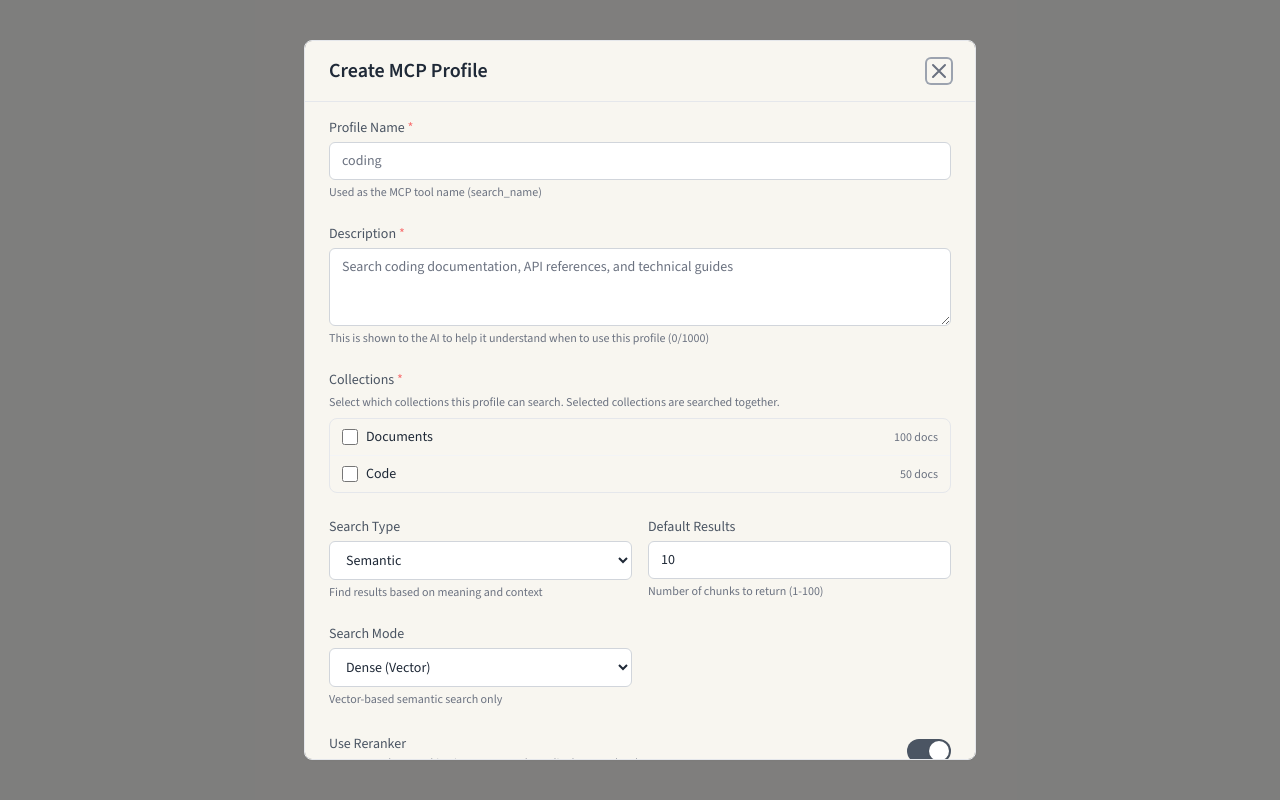
Test: ProfileFormModal › Form Validation › should show error for invalid name format
Step 1. Type "Invalid Name!" into the field labelled "Profile Name *" → (640, 161), box [329,142,951,180]
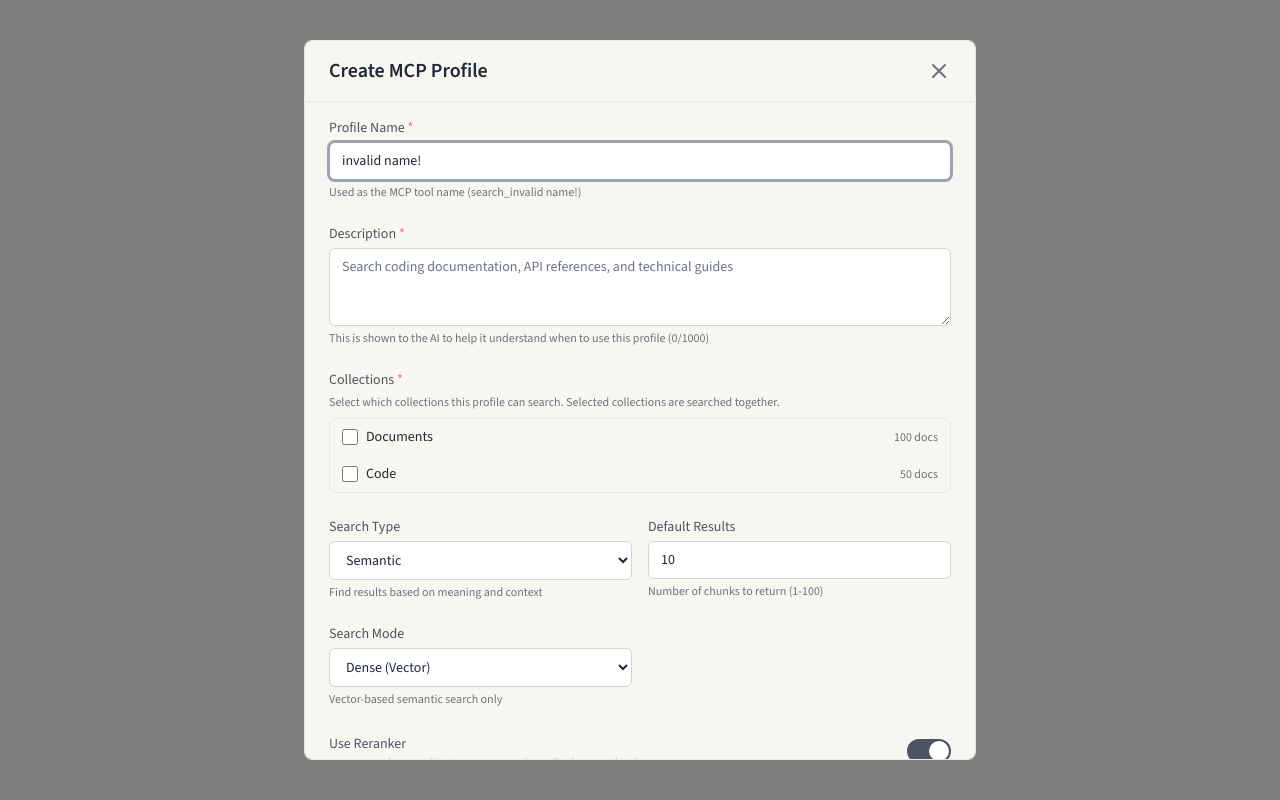
Step 2. Type "Test description" into the text box labelled "Description *" → (640, 287), box [329,248,951,326]
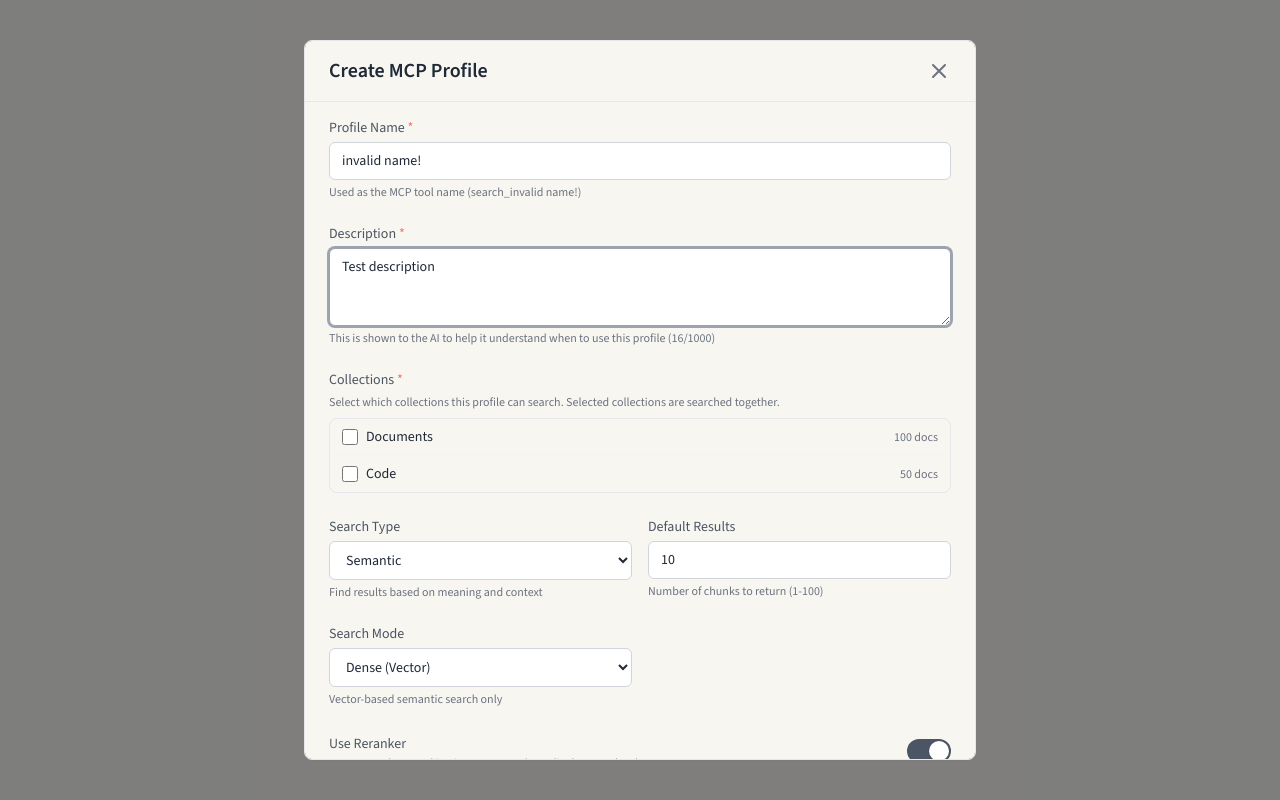
Step 3. Click the checkbox labelled "Documents 100 docs" → (350, 437), box [342,429,358,445]
(page scrolled)
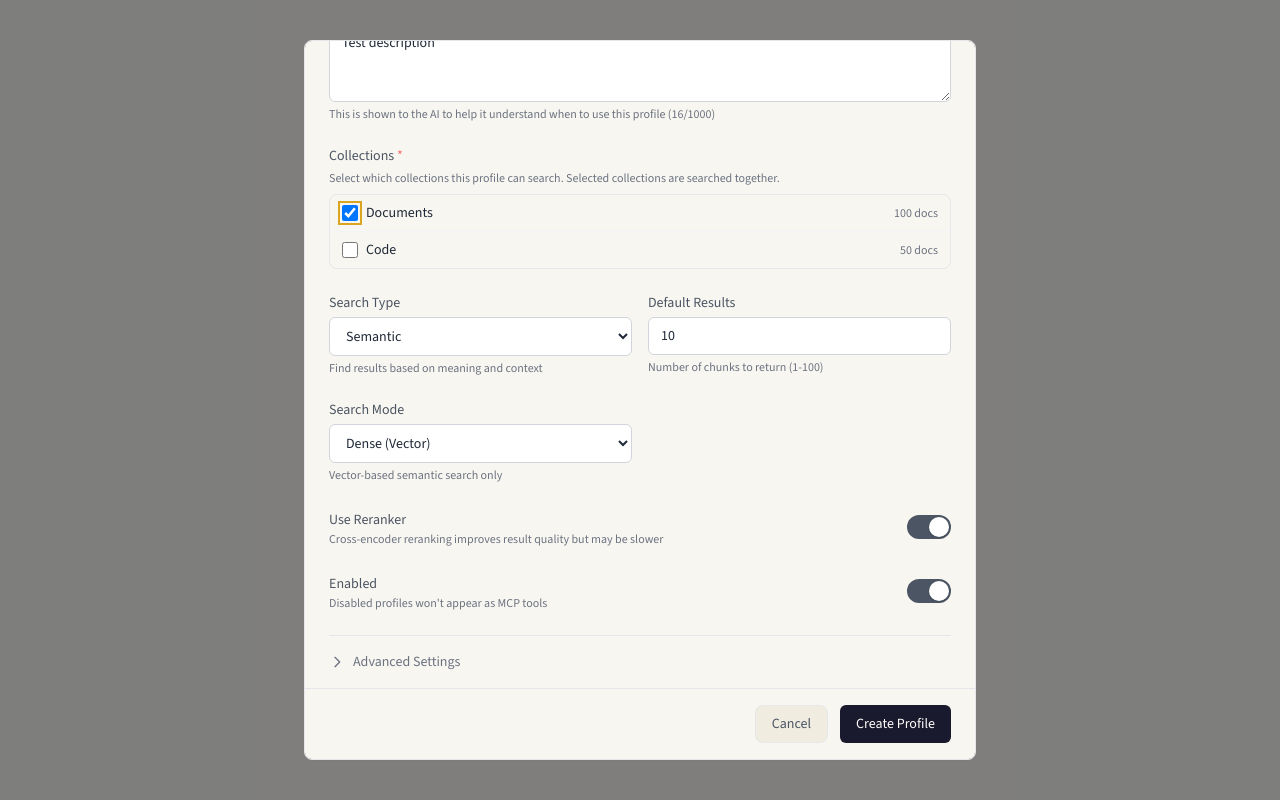
Step 4. Click the button "Create Profile" → (896, 724), box [840,705,951,743]
(page scrolled)
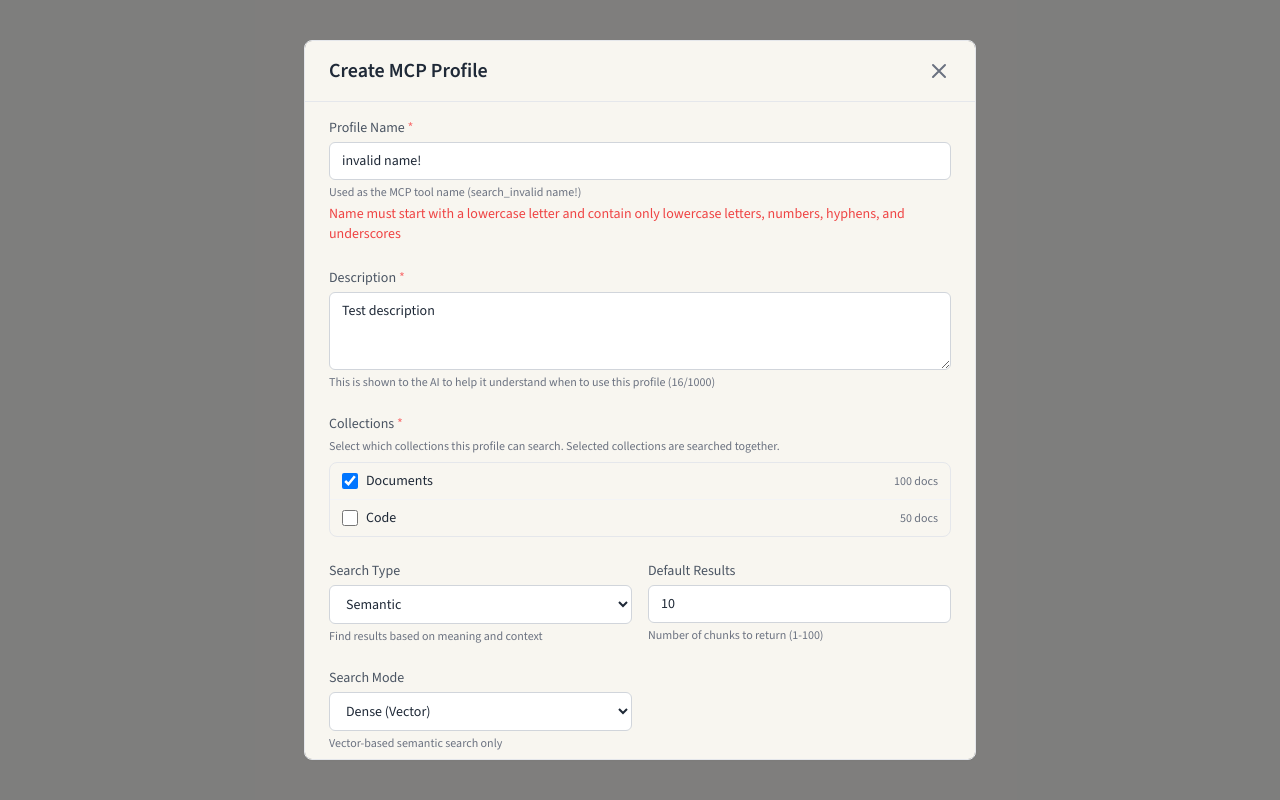
expect the text "Name must start with a lowercase letter" is shown: met, box [329,204,905,243]
